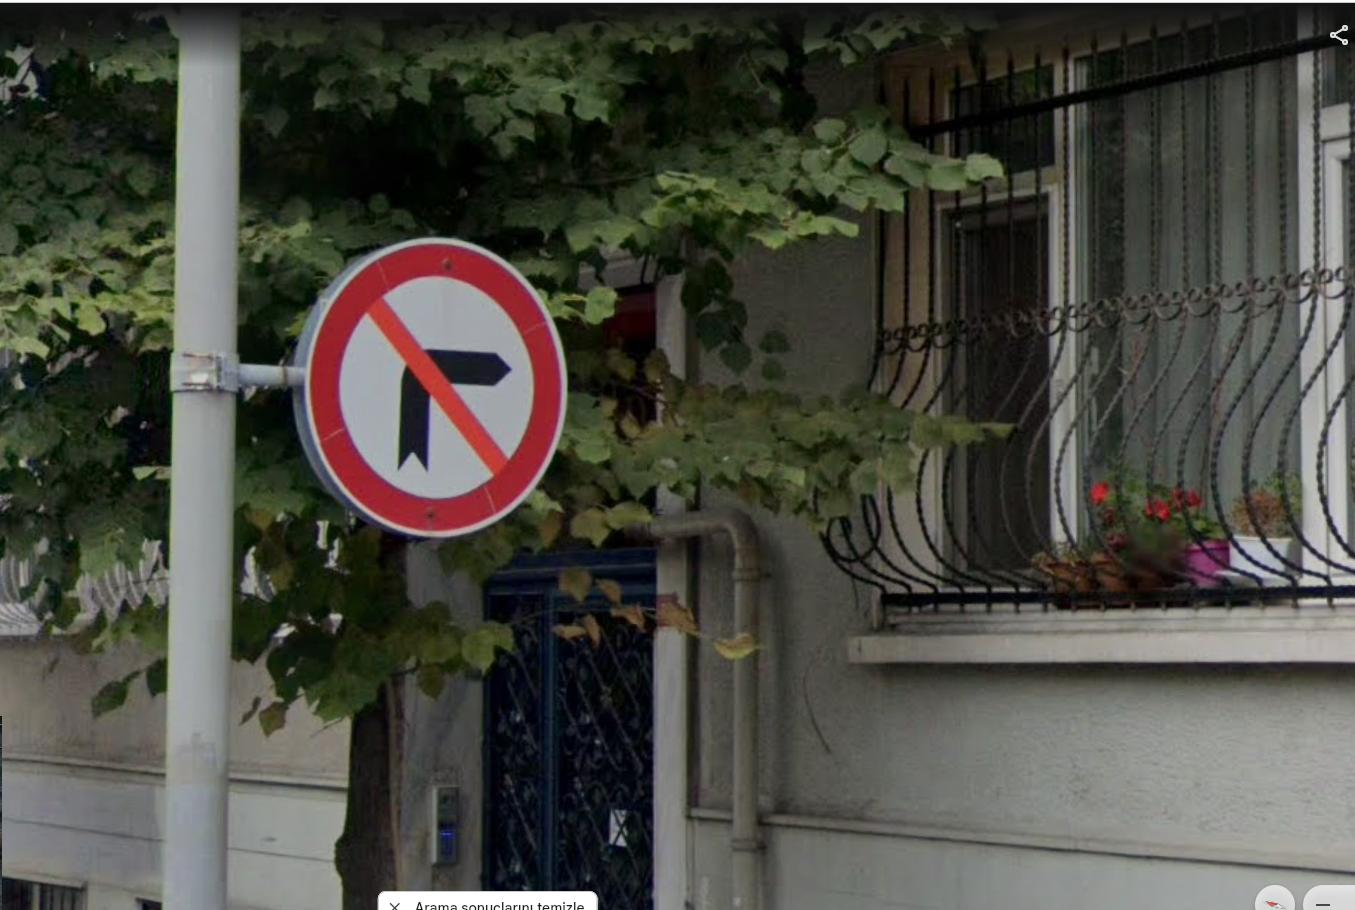rightturnsareforbidden: (281, 220, 586, 571)
